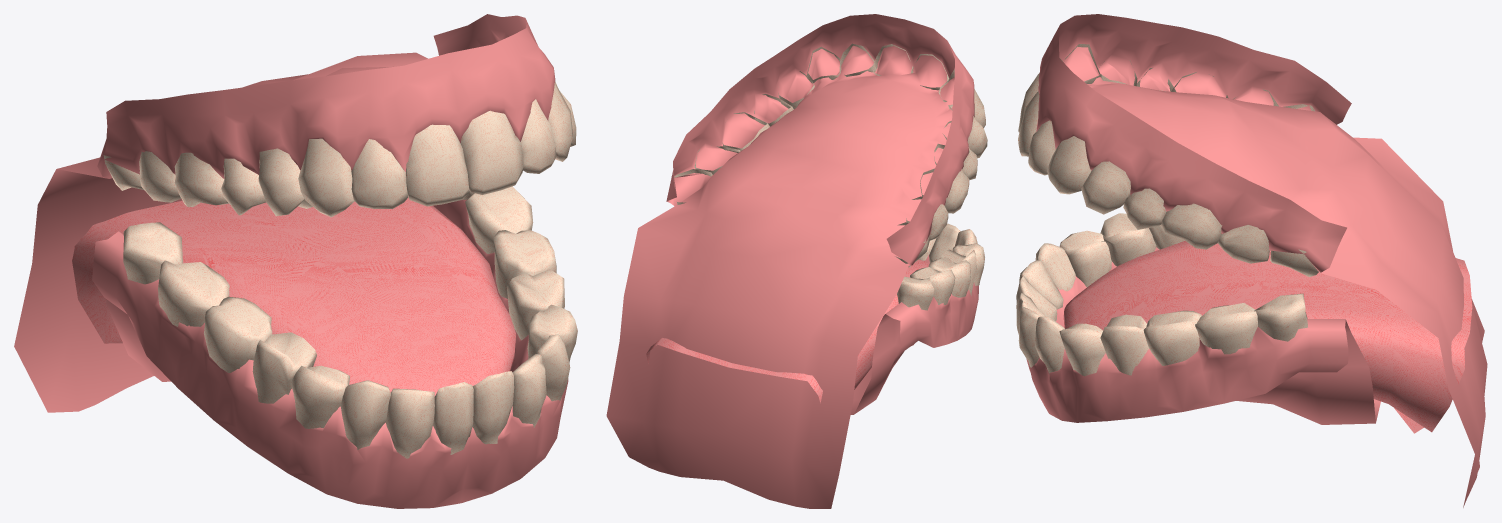
Rendered from mouth.dae.
3 renders of one model, left to right at view 1: azimuth 30°, elevation 25°; view 2: azimuth 150°, elevation 25°; view 3: azimuth 270°, elevation 25°, orthographic. The views are drawn at different scales.
Parts seen in each view (by area): view 1: group_3, group_22, group_21, group_16, group_17, group_0, group_1, group_14, group_34, group_15, group_20, group_2 (+17 smaller); view 2: group_3, group_21, group_22, group_2, group_1, group_0, group_11, group_31, group_13, group_33, group_10, group_34; view 3: group_3, group_22, group_21, group_23, group_20, group_24, group_6, group_33, group_8, group_19, group_25, group_26 (+11 smaller).
Boxes of the visible parts, x1=… form: group_3: x1=14, y1=14, x2=555, y2=412; group_22: x1=72, y1=196, x2=515, y2=396; group_21: x1=92, y1=199, x2=568, y2=508; group_16: x1=406, y1=124, x2=469, y2=206; group_17: x1=460, y1=110, x2=523, y2=194; group_0: x1=204, y1=296, x2=272, y2=372; group_1: x1=158, y1=260, x2=229, y2=326; group_14: x1=298, y1=138, x2=354, y2=217; group_34: x1=252, y1=332, x2=316, y2=403; group_15: x1=351, y1=139, x2=407, y2=209; group_20: x1=465, y1=186, x2=533, y2=253; group_2: x1=123, y1=222, x2=182, y2=284; group_3: x1=606, y1=14, x2=974, y2=508; group_21: x1=850, y1=254, x2=978, y2=414; group_22: x1=646, y1=259, x2=929, y2=403; group_2: x1=897, y1=276, x2=934, y2=310; group_1: x1=910, y1=267, x2=955, y2=304; group_0: x1=928, y1=257, x2=970, y2=297; group_11: x1=920, y1=168, x2=969, y2=213; group_31: x1=929, y1=223, x2=960, y2=262; group_13: x1=942, y1=116, x2=987, y2=158; group_33: x1=952, y1=242, x2=984, y2=285; group_10: x1=906, y1=196, x2=948, y2=240; group_34: x1=939, y1=249, x2=976, y2=295; group_3: x1=1036, y1=14, x2=1487, y2=507; group_22: x1=1063, y1=241, x2=1472, y2=433; group_21: x1=1026, y1=247, x2=1380, y2=424; group_23: x1=1143, y1=310, x2=1201, y2=365; group_20: x1=1195, y1=303, x2=1257, y2=354; group_24: x1=1100, y1=314, x2=1148, y2=375; group_6: x1=1161, y1=203, x2=1222, y2=249; group_33: x1=1059, y1=230, x2=1111, y2=286; group_8: x1=1081, y1=161, x2=1130, y2=214; group_19: x1=1047, y1=136, x2=1091, y2=194; group_25: x1=1254, y1=293, x2=1307, y2=341; group_26: x1=1059, y1=323, x2=1105, y2=376.
Bounding box in the file's own units: 65.3 × 85.31 × 82.68.
